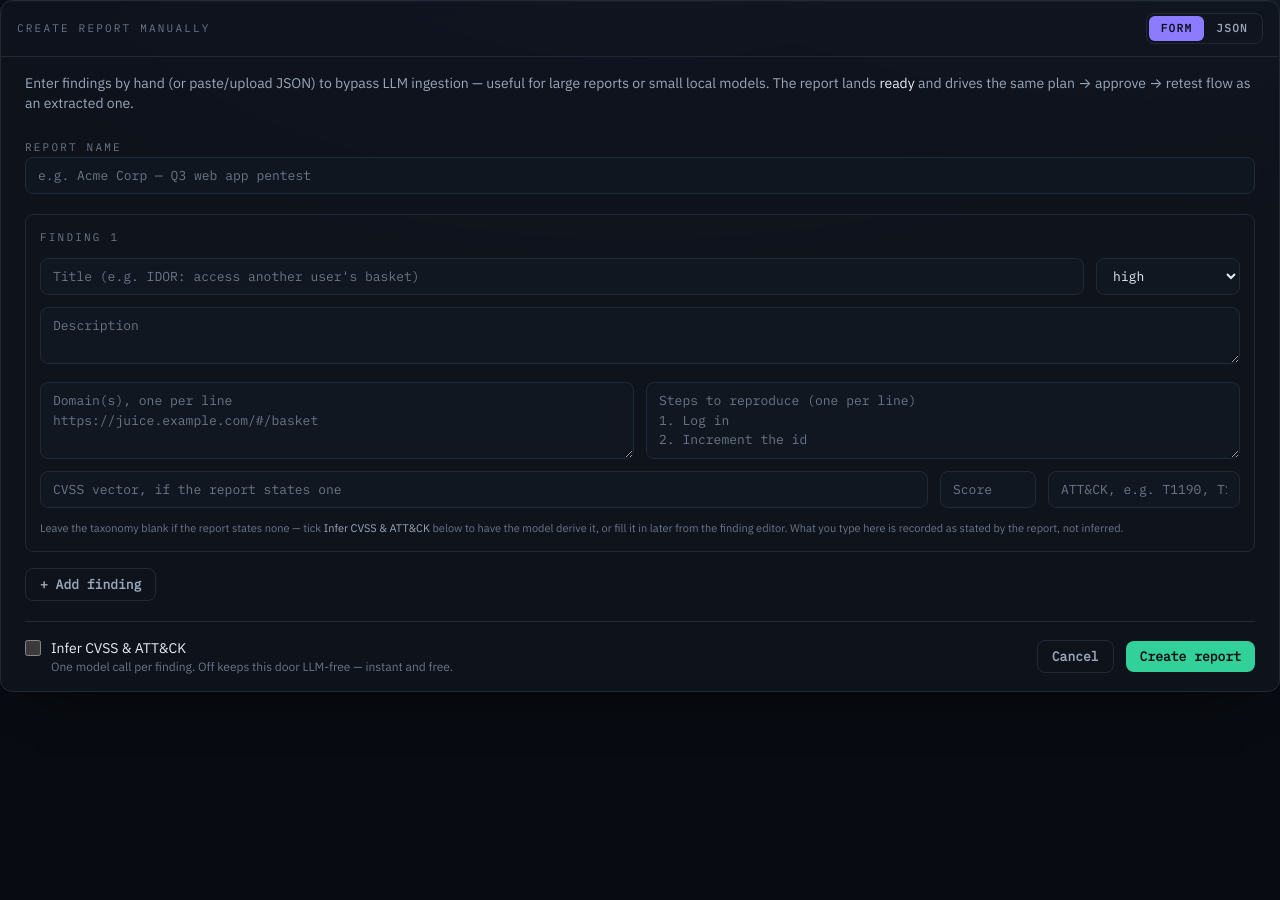
Test case: NewReport › requires every finding to have a title
Type "R" into the field with placeholder "e.g. Acme Corp — Q3 web app pentest" at (640, 175), box [25, 156, 1255, 194]
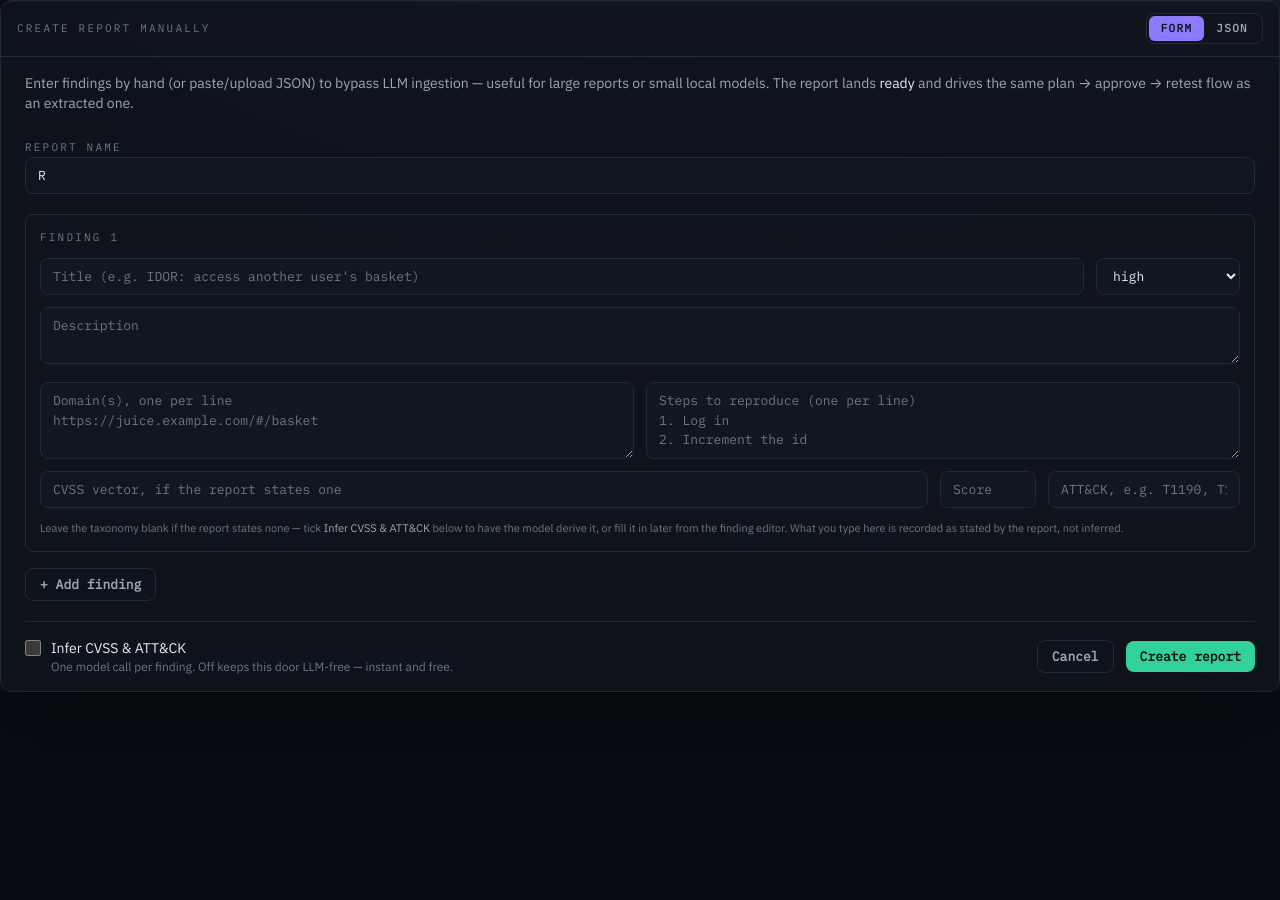
Click the button "Create report" at (1190, 657), box [1126, 641, 1255, 672]
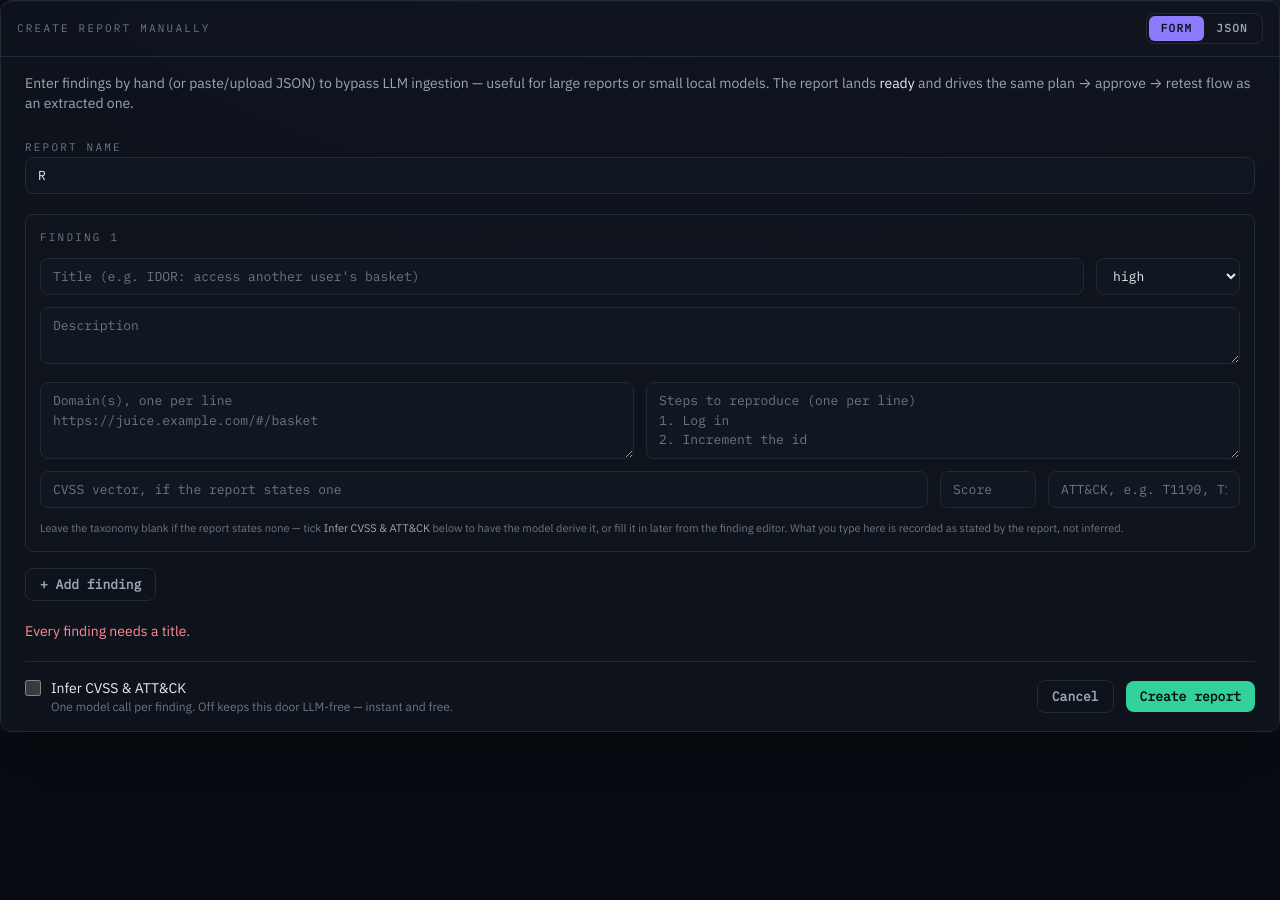
expect the message reads "Every finding needs a title.": met, box [25, 622, 190, 640]
